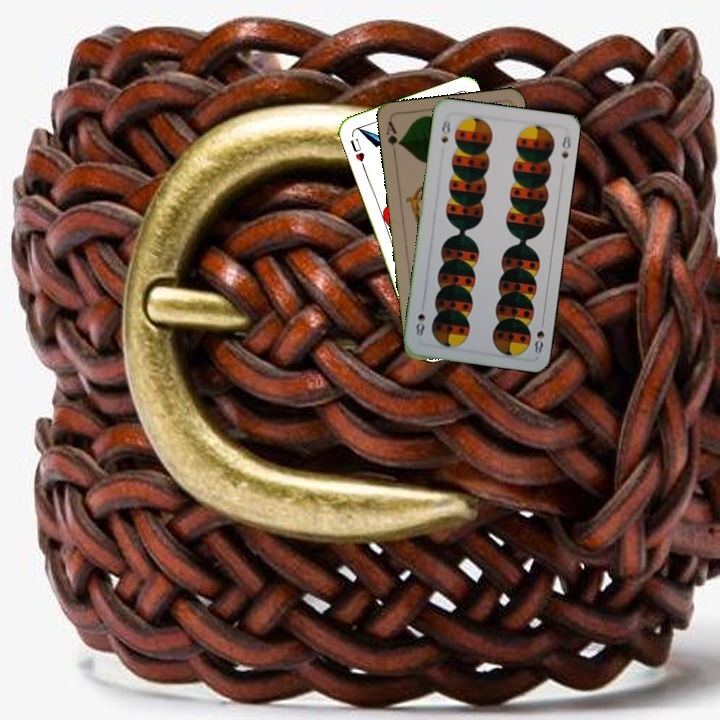GA: (382, 117, 404, 157)
HU: (346, 134, 367, 164)
S8: (531, 316, 547, 356), (437, 115, 453, 146)
